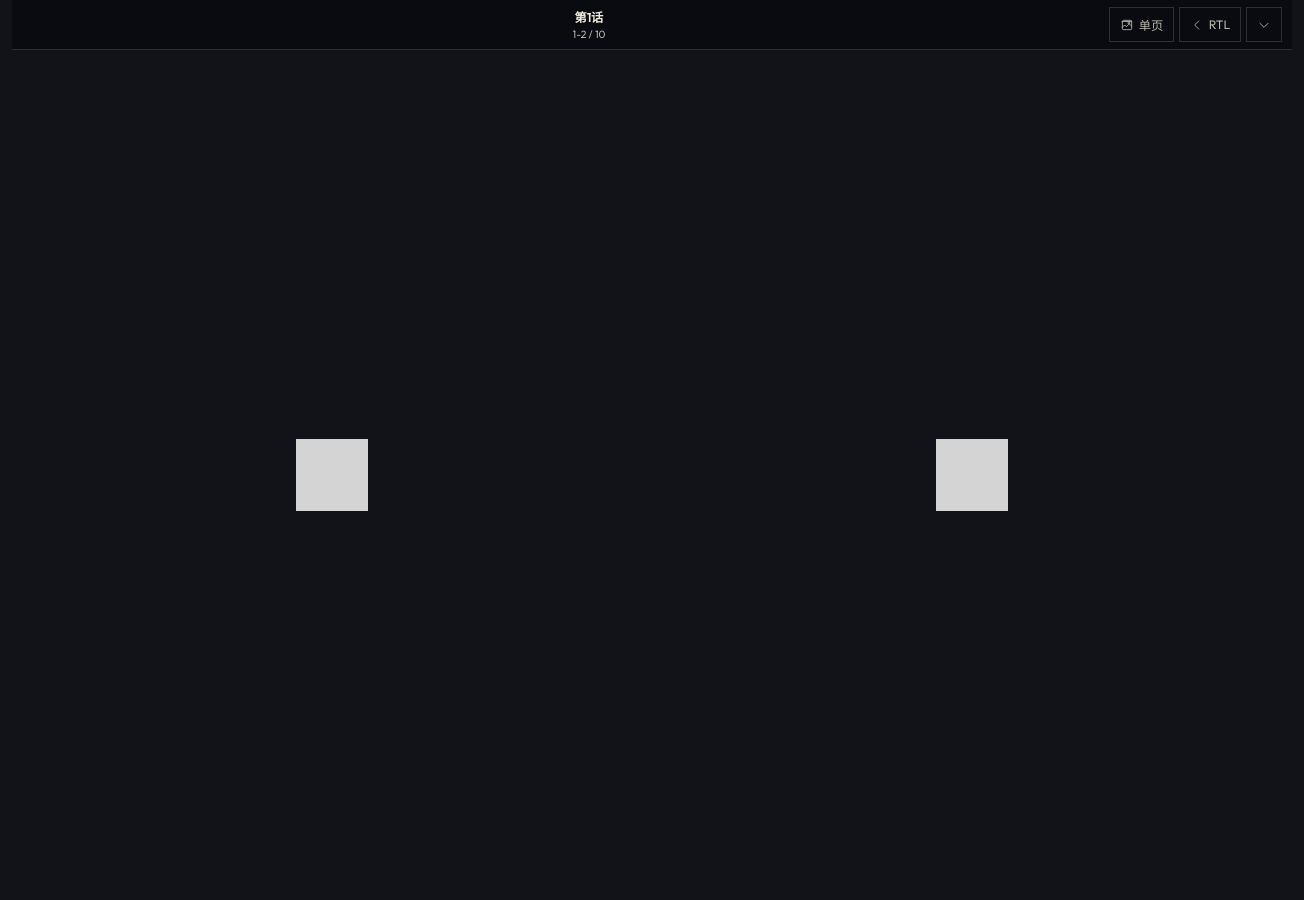
Test: ComicReader 双页翻页方向 › C7: 双页 RTL 点击右侧热区前进一屏；→ 键同效；点击左侧/← 后退
expect the text with test id "page-indicator" reads "1-2 / 10": met, box [573,27,606,41]
Click the button with test id "zone-right" at (1068, 475), box [844,50,1292,899]
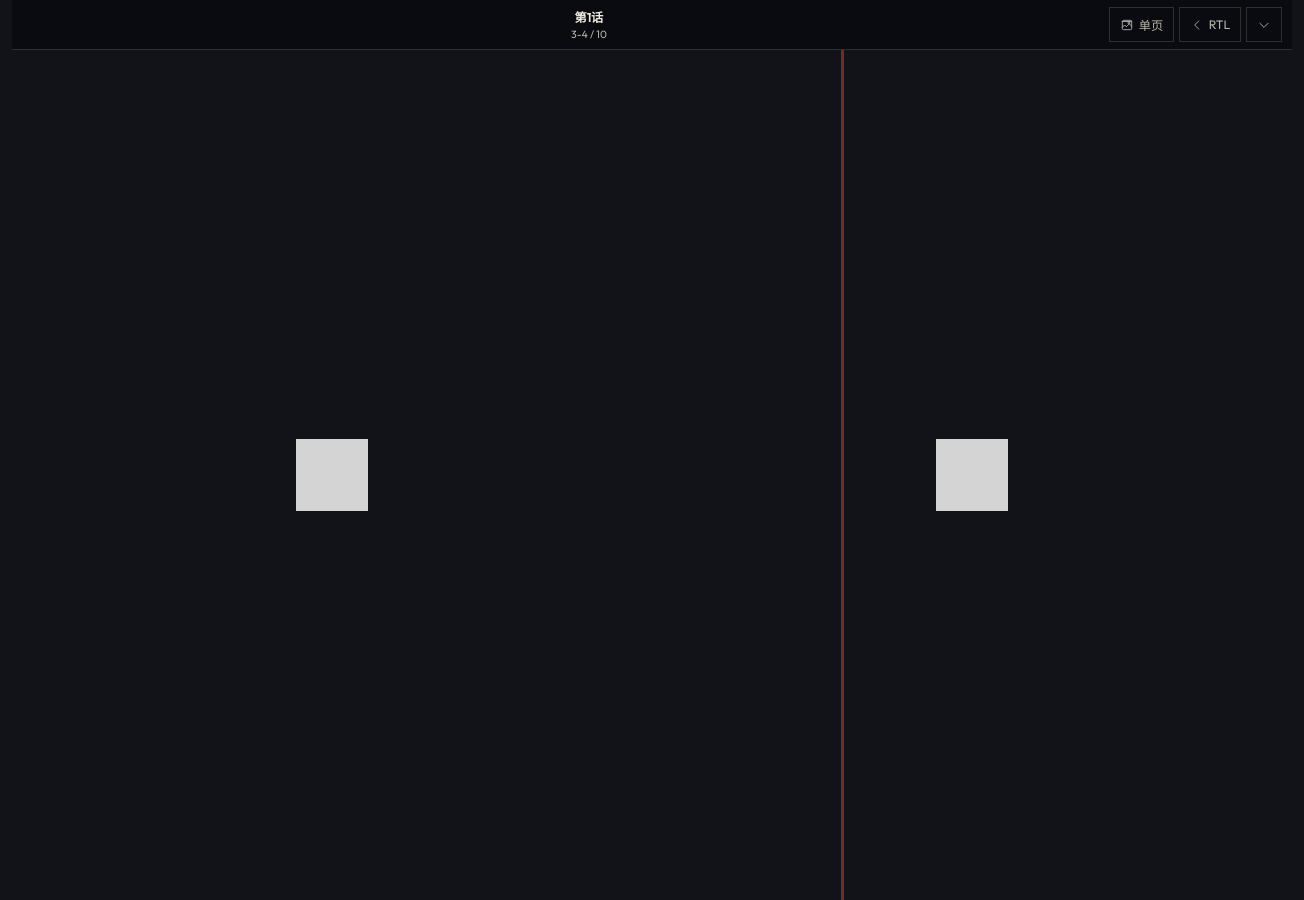
expect the text with test id "page-indicator" reads "3-4 / 10": met, box [571,27,607,41]
Press ArrowRight
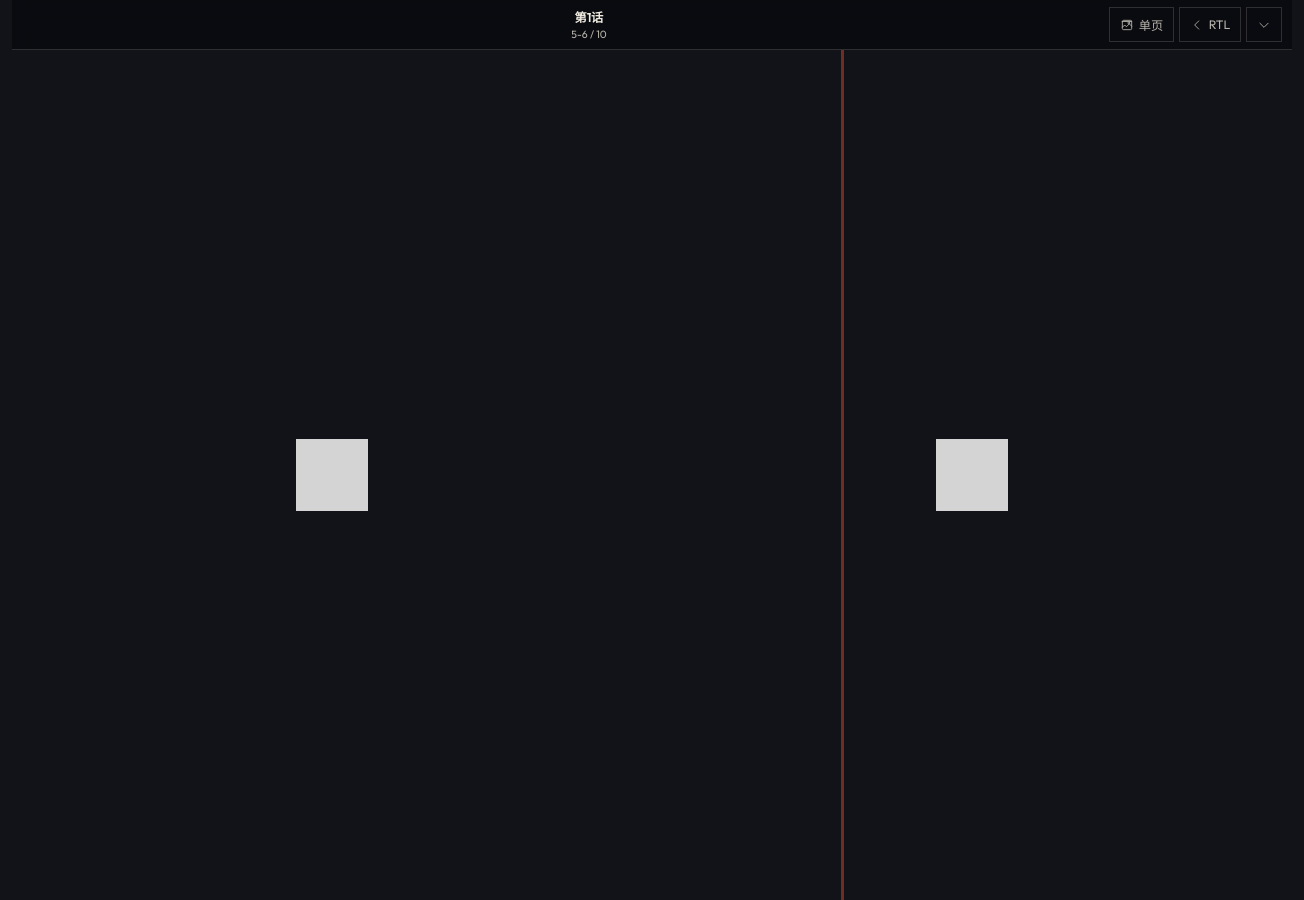
expect the text with test id "page-indicator" reads "5-6 / 10": met, box [571,27,607,41]
Press ArrowLeft
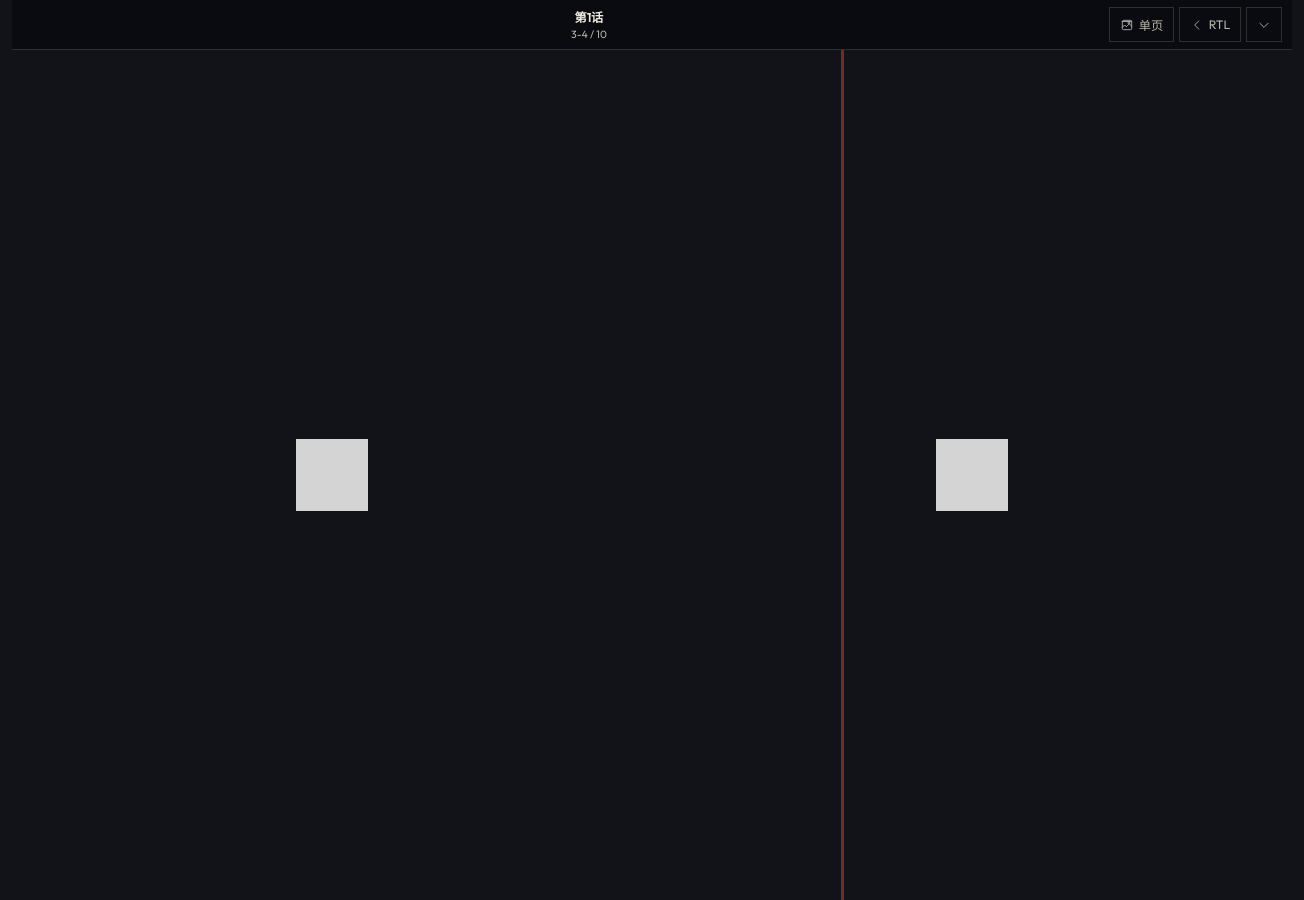
expect the text with test id "page-indicator" reads "3-4 / 10": met, box [571,27,607,41]
Click the button with test id "zone-left" at (236, 475), box [12,50,460,899]
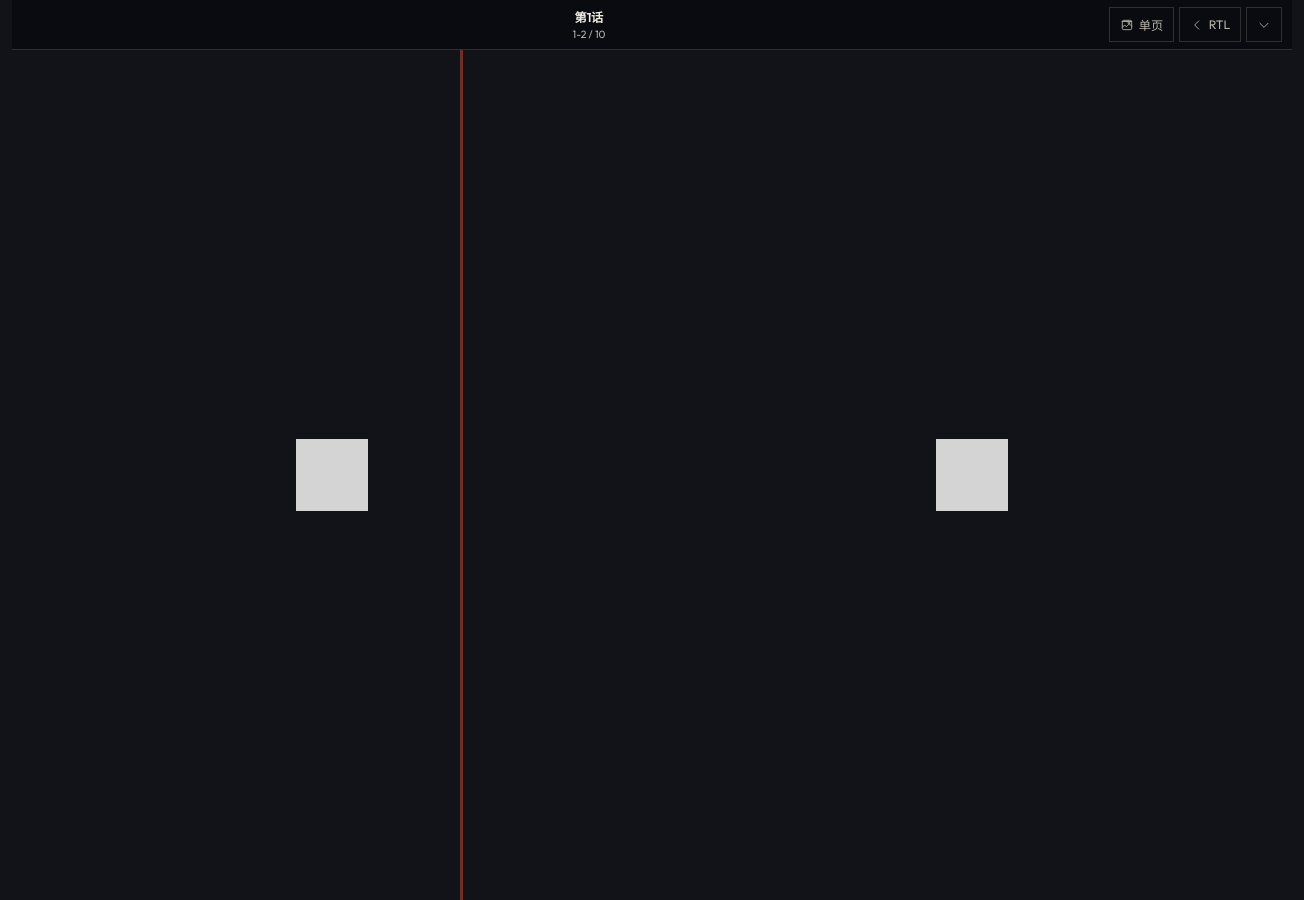
expect the text with test id "page-indicator" reads "1-2 / 10": met, box [573,27,606,41]
